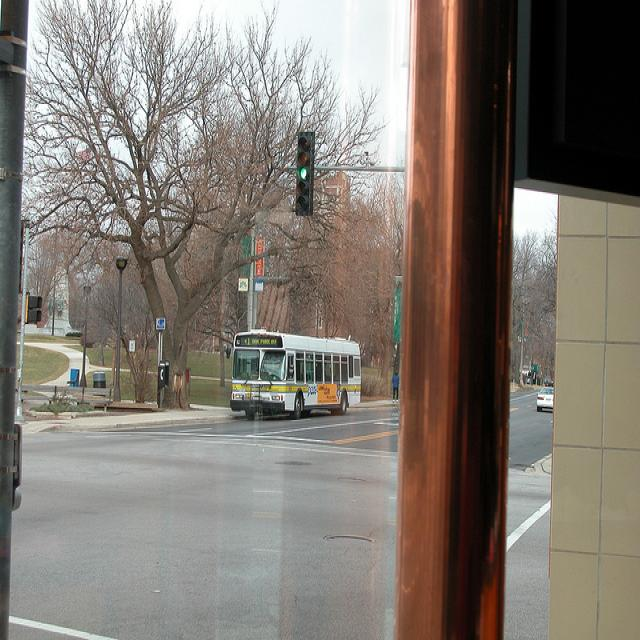Vehicle: (227, 328, 361, 424), (536, 386, 554, 413)
